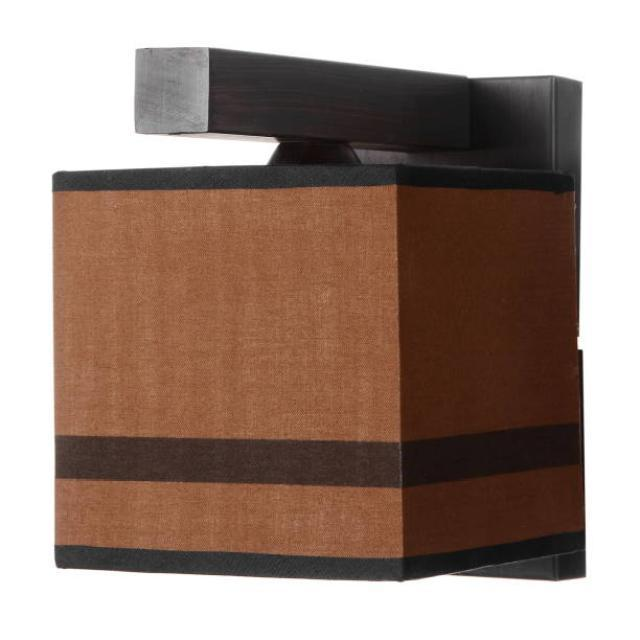table: (51, 45, 586, 582)
